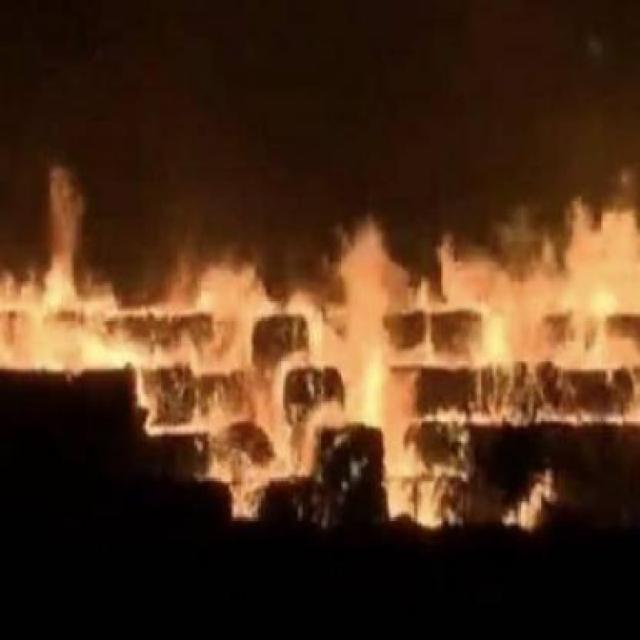Fire: (8, 252, 630, 532)
